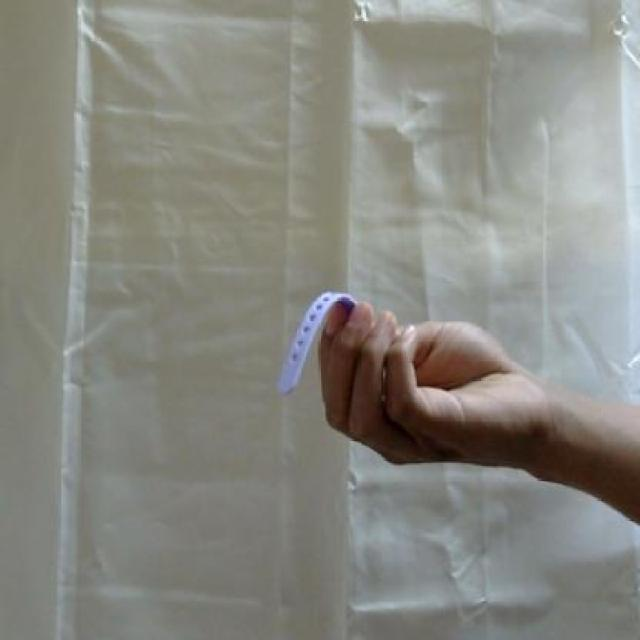Plastic: (273, 293, 361, 394)
